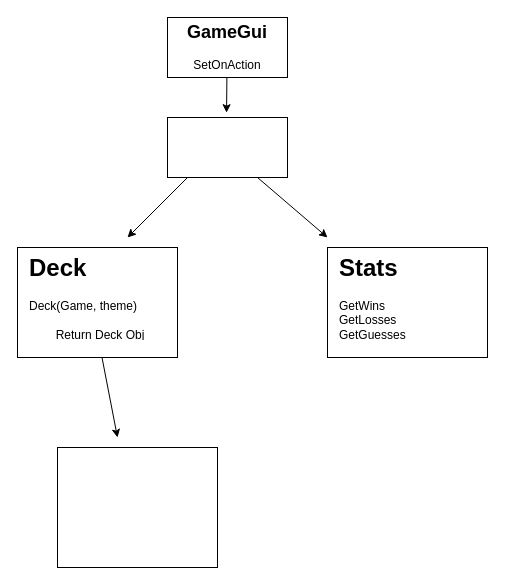
This 505x588 diagram has some shape labels left out. The shapes that lost their labels are listed below. From the top down, each one's centre as x and y in pixels, then its label:
At (x=227, y=147): "Game".
At (x=137, y=507): "Card Card(Title, path/picture) GetTitle GetPath".
